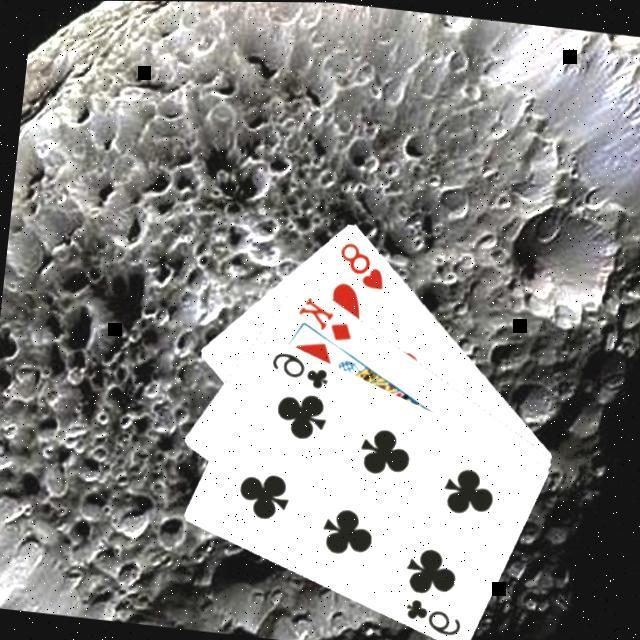6C: (397, 591, 464, 637), (264, 346, 332, 390)
8H: (331, 235, 390, 290)
KD: (289, 289, 357, 343)
